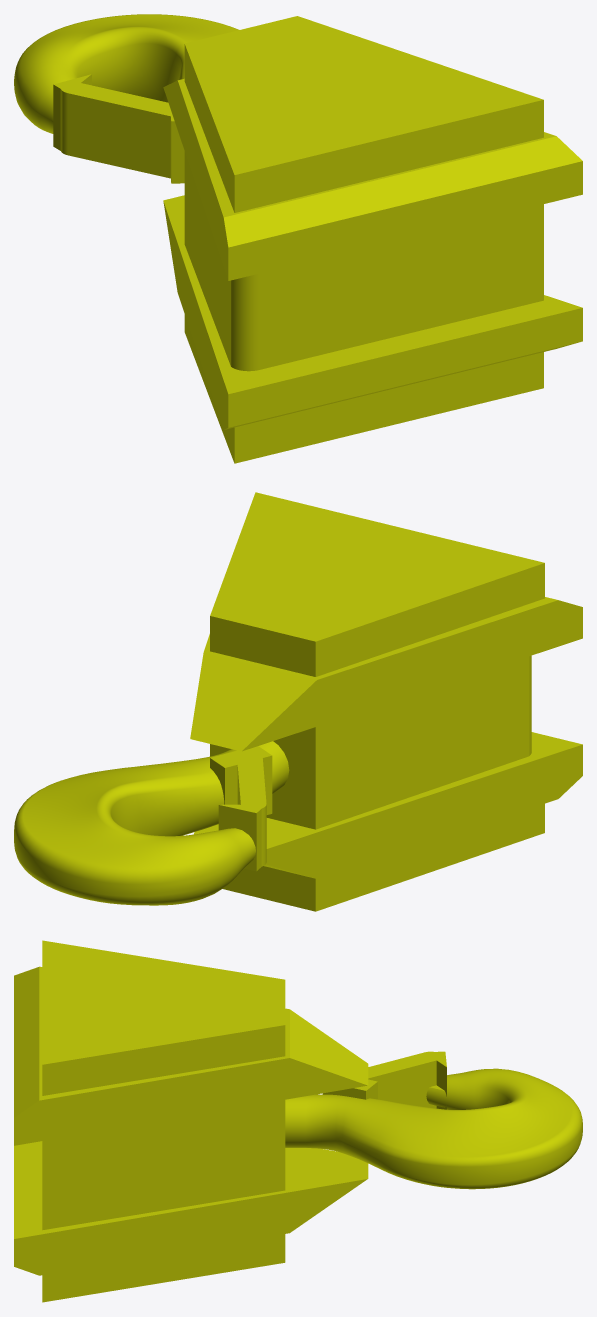
The model's file is block.obj.
The picture shows the model from 3 angles, top to bottom: view 1: azimuth 30°, elevation 25°; view 2: azimuth 150°, elevation 25°; view 3: azimuth 270°, elevation 25°; orthographic projection. The views are drawn at different scales.
Visible parts, largest first — view 1: Block; view 2: Block; view 3: Block.
Part boxes in pixels (x1,y1,x2,y2): Block: (14, 14, 582, 463); Block: (14, 492, 582, 911); Block: (14, 940, 582, 1302).
Bounding box in the file's own units: 0.5969 × 0.464 × 1.01.
